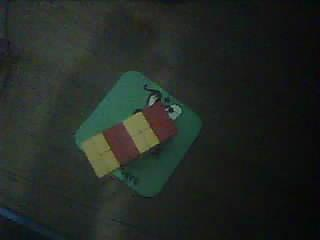lego: (79, 100, 178, 179)
